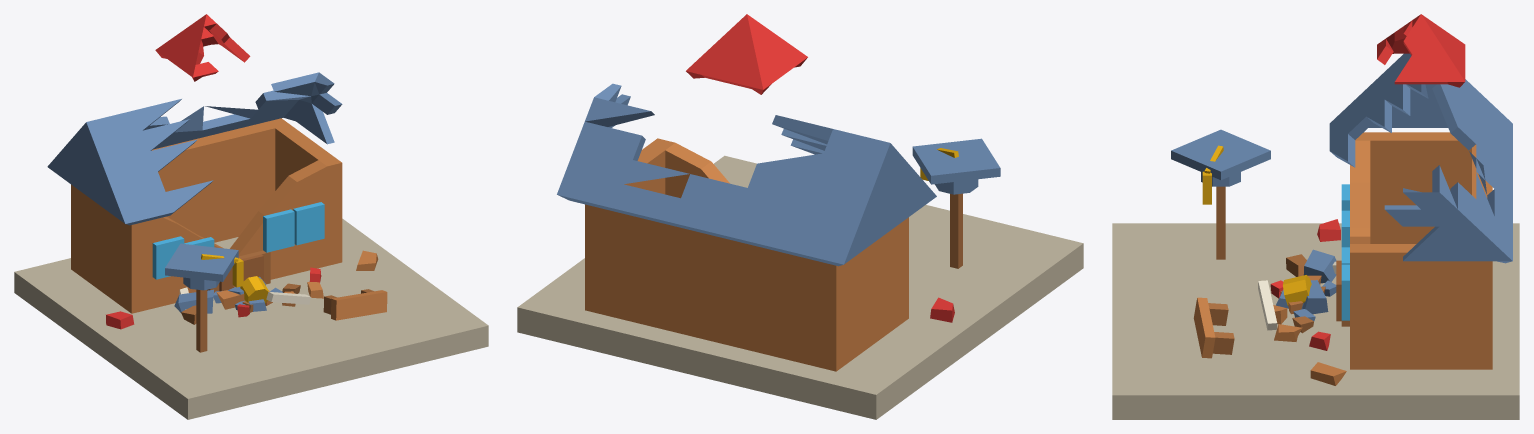
Rendered from university_t1_v1_dmg1.glb.
The picture shows the model from 3 angles, left to right: view 1: azimuth 30°, elevation 25°; view 2: azimuth 150°, elevation 25°; view 3: azimuth 270°, elevation 25°; orthographic projection. The views are drawn at different scales.
Visible parts, largest first — view 1: university_t1_v1_dmg1; view 2: university_t1_v1_dmg1; view 3: university_t1_v1_dmg1.
Boxes of the visible parts, x1,y1,x2,y2 form: university_t1_v1_dmg1: (14,14,488,419); university_t1_v1_dmg1: (517,14,1083,419); university_t1_v1_dmg1: (1112,14,1519,419).
Size of the model in its own units: 0.6 by 0.52 by 0.6.
1 material, 1 textured.
